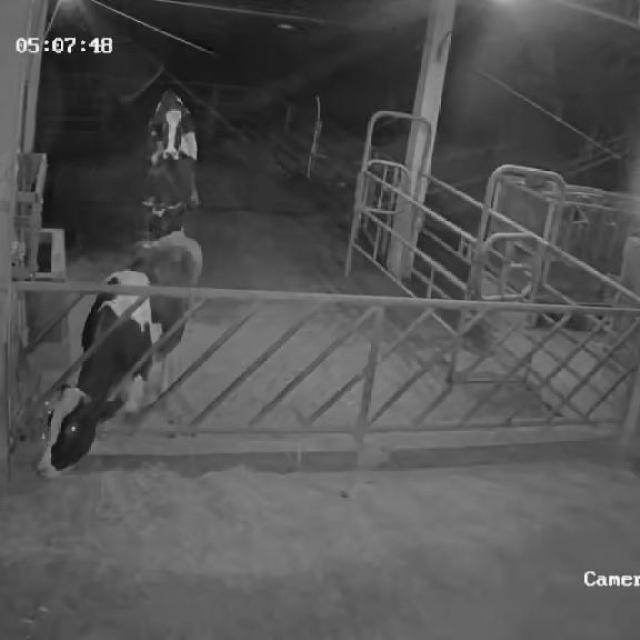feeding: (30, 229, 218, 492)
